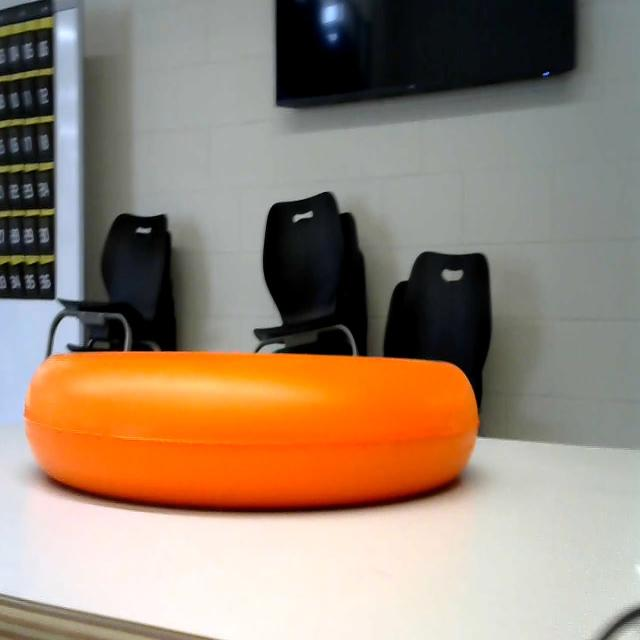note: (16, 326, 496, 514)
